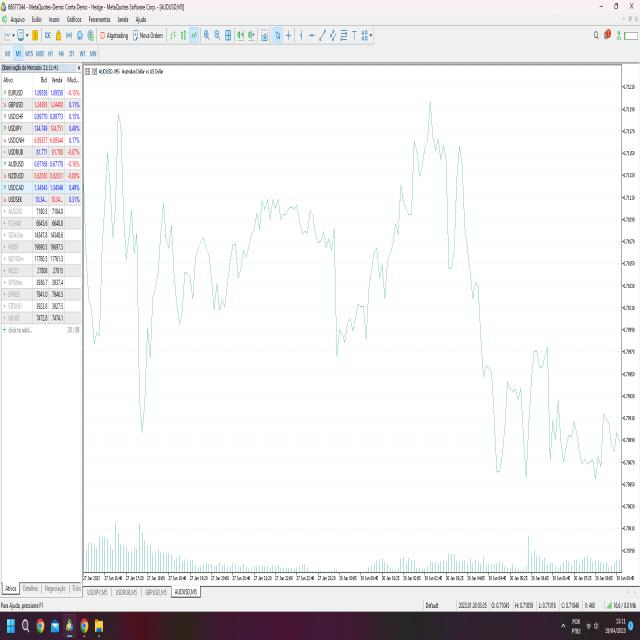bandeira_baixa: (327, 210, 368, 361)
fundo_duplo: (475, 342, 538, 506), (206, 253, 234, 319)
